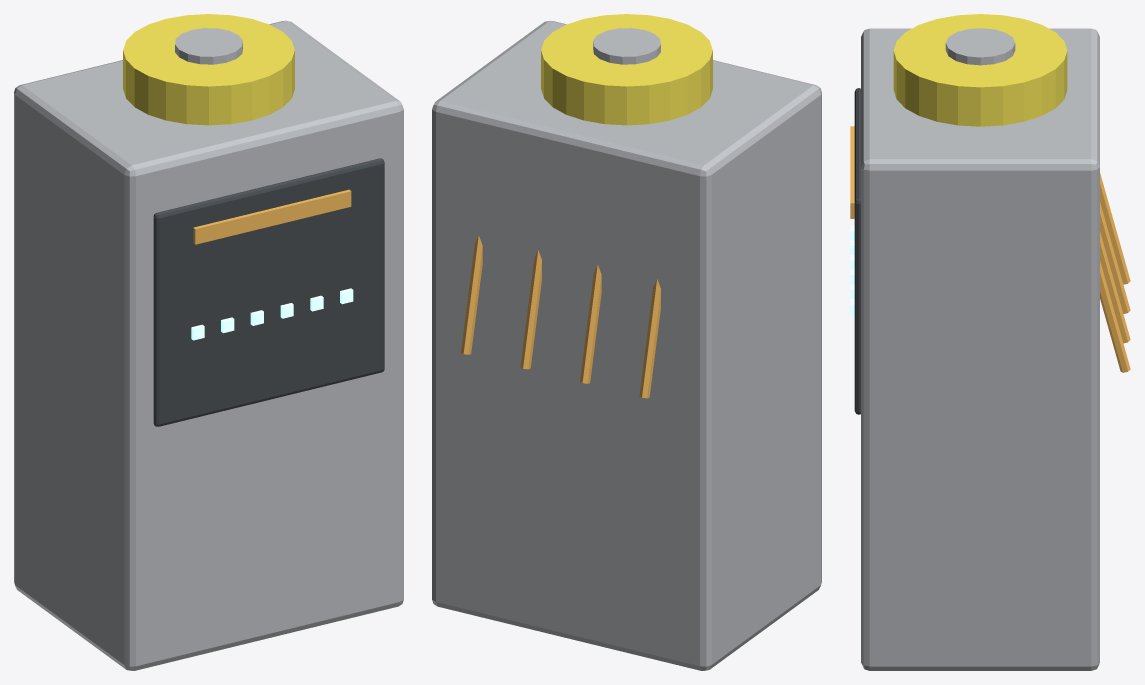
Rendered from isp.fbx.
The picture shows the model from 3 angles, left to right: view 1: azimuth 30°, elevation 25°; view 2: azimuth 150°, elevation 25°; view 3: azimuth 270°, elevation 25°; orthographic projection.
Visible parts, largest first — view 1: isp; view 2: isp; view 3: isp.
Boxes of the visible parts, x1,y1,x2,y2 form: isp: [14, 14, 403, 670]; isp: [432, 14, 821, 670]; isp: [850, 14, 1130, 670].
Bounding box in the file's own units: 0.75 × 1.43 × 0.6458.
